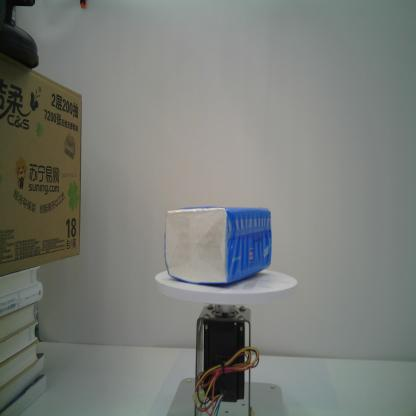Tissue: (163, 205, 273, 288)
